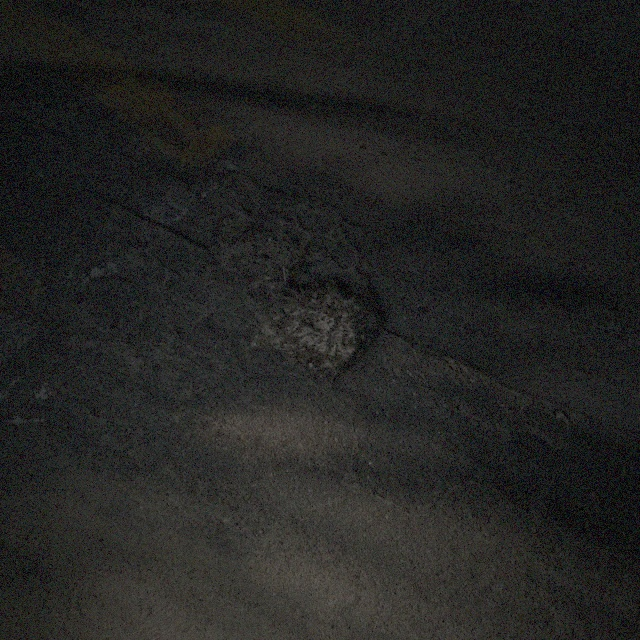pothole: (244, 269, 390, 377), (204, 220, 306, 278), (138, 162, 194, 201)
